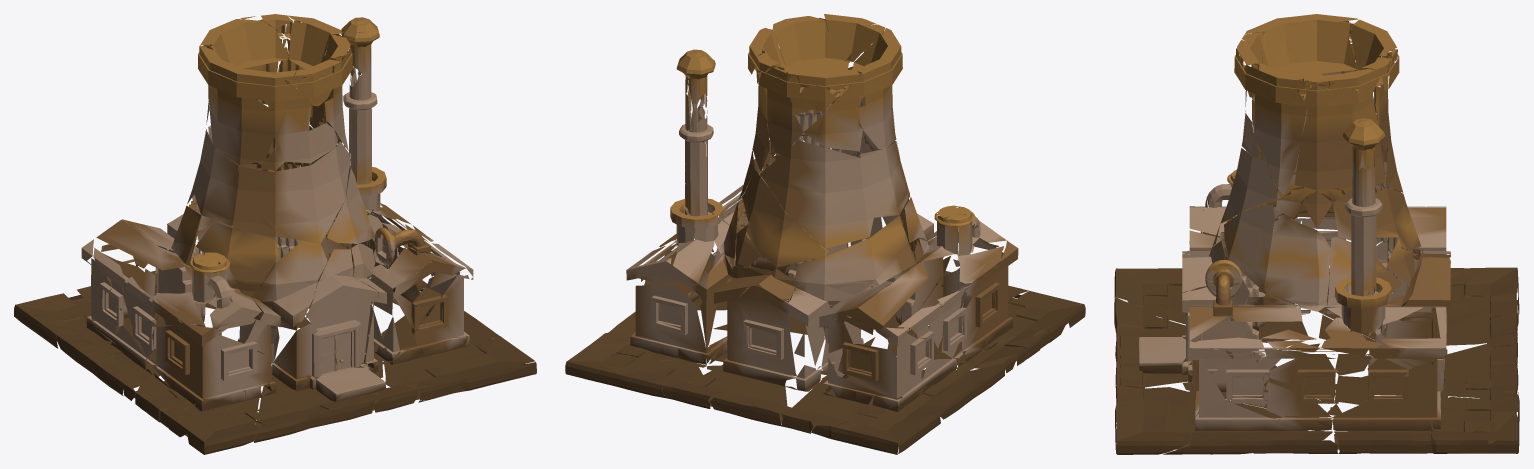
Rendered from hero-power-plant.glb.
The picture shows the model from 3 angles, left to right: view 1: azimuth 30°, elevation 25°; view 2: azimuth 150°, elevation 25°; view 3: azimuth 270°, elevation 25°; orthographic projection. The views are drawn at different scales.
Visible parts, largest first — view 1: world; view 2: world; view 3: world.
Boxes of the visible parts, x1,y1,x2,y2 form: world: [14, 14, 536, 454]; world: [565, 14, 1085, 454]; world: [1114, 14, 1519, 454].
Size of the model in its own units: 2.7 by 2.31 by 2.66.
